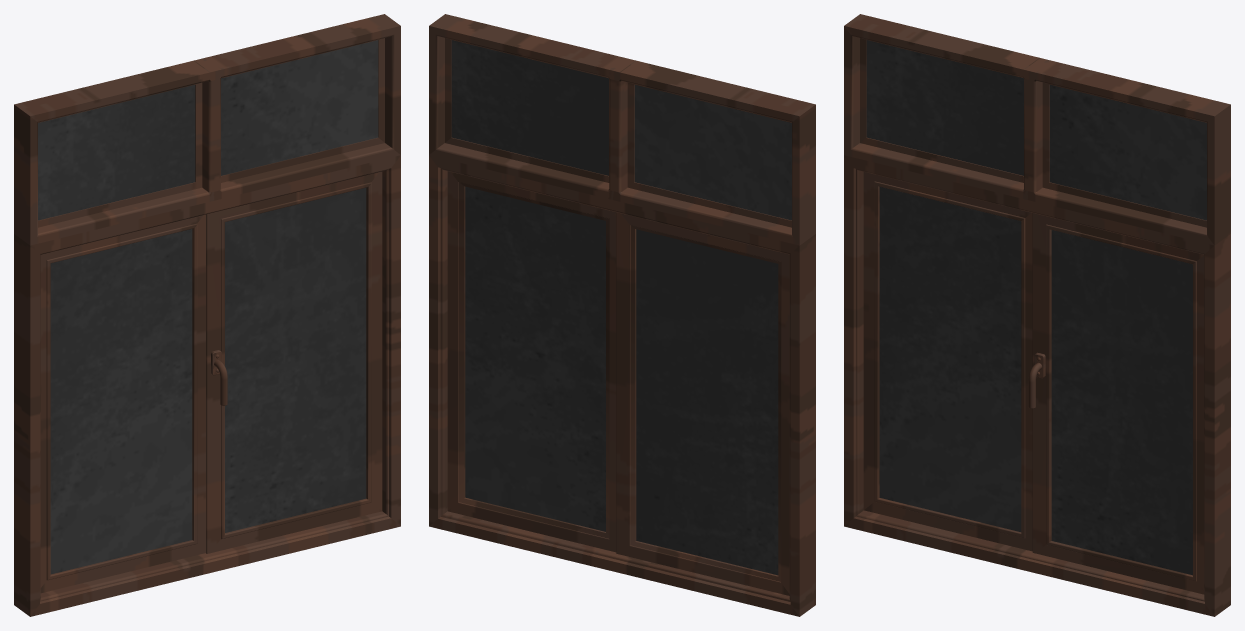
The model's file is Window.fbx.
3 views of the same model, side by side, from view 1: azimuth 30°, elevation 25°; view 2: azimuth 150°, elevation 25°; view 3: azimuth 330°, elevation 25° (orthographic).
Parts seen in each view (by area): view 1: L, R, UP, F; view 2: R, L, UP, F; view 3: L, R, UP, F.
Boxes of the visible parts, bbox=[...] form: L: bbox=[206, 171, 382, 553]; R: bbox=[40, 214, 205, 593]; UP: bbox=[14, 14, 400, 245]; F: bbox=[14, 155, 400, 616]; R: bbox=[616, 212, 789, 595]; L: bbox=[447, 171, 616, 552]; UP: bbox=[429, 14, 815, 245]; F: bbox=[429, 155, 815, 616]; L: bbox=[1028, 213, 1204, 594]; R: bbox=[863, 172, 1032, 551]; UP: bbox=[844, 14, 1230, 245]; F: bbox=[844, 155, 1230, 616].
Bounding box in the file's own units: 237 × 306 × 23.07.
Materials: 2 (2 with a texture image).
